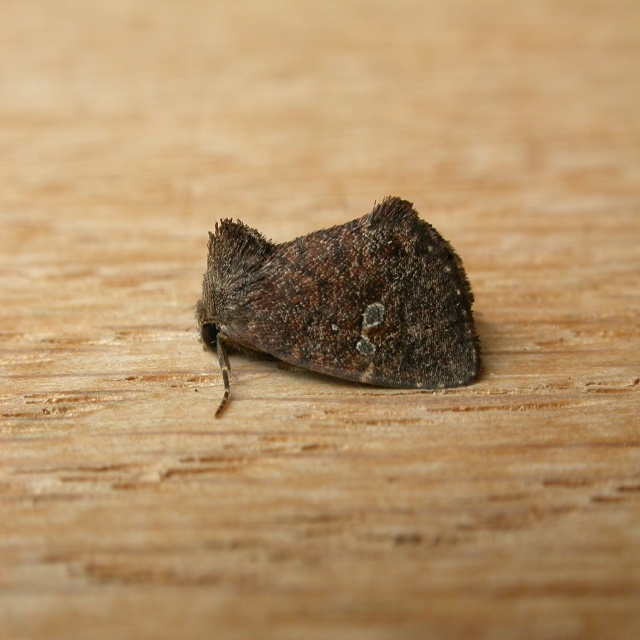Moths and butterflies: (195, 189, 485, 418)
